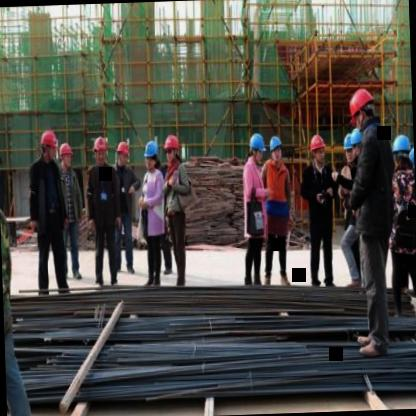helmet: (344, 87, 376, 132), (391, 129, 412, 172), (38, 126, 60, 164), (246, 130, 268, 166), (90, 134, 110, 170), (140, 136, 160, 171), (308, 132, 328, 166), (162, 130, 181, 165), (342, 129, 358, 169), (57, 139, 74, 175), (350, 124, 366, 160), (115, 138, 132, 171), (268, 134, 285, 165)
